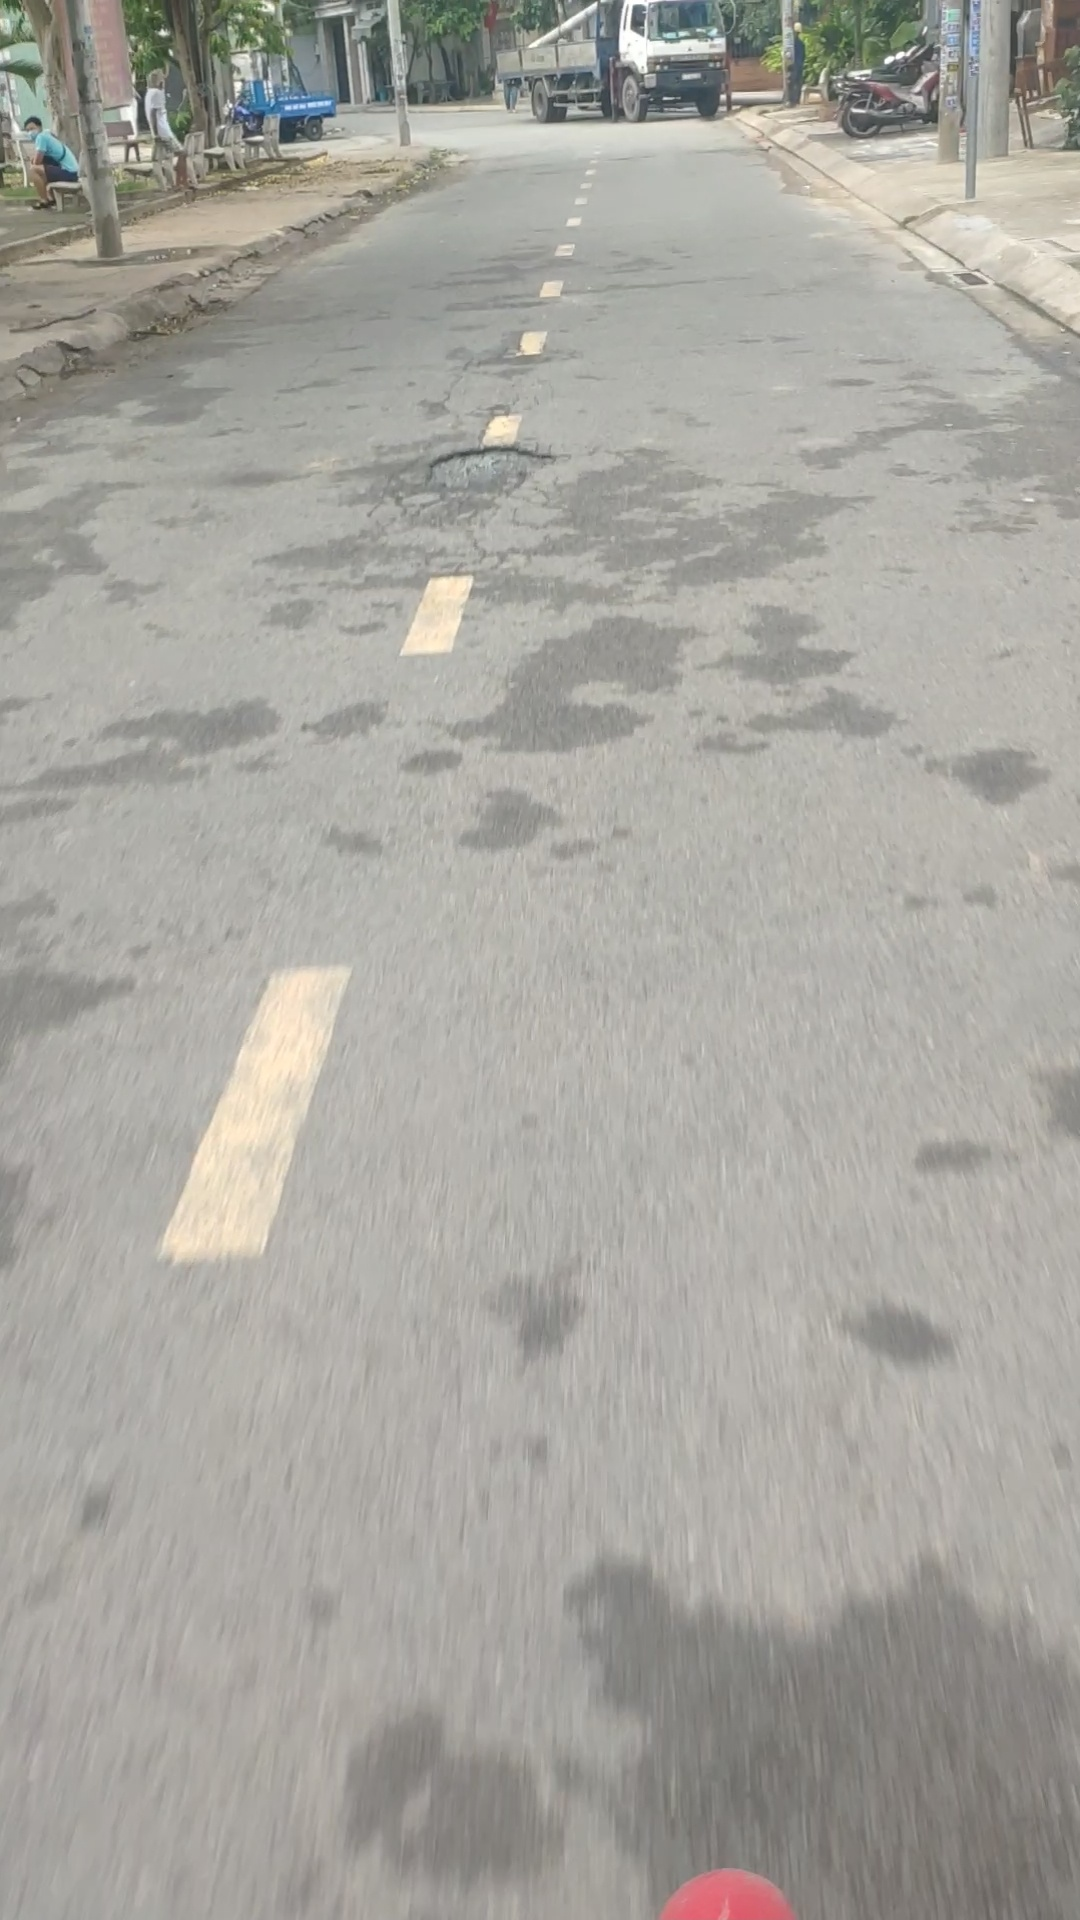hole: (427, 440, 560, 500)
